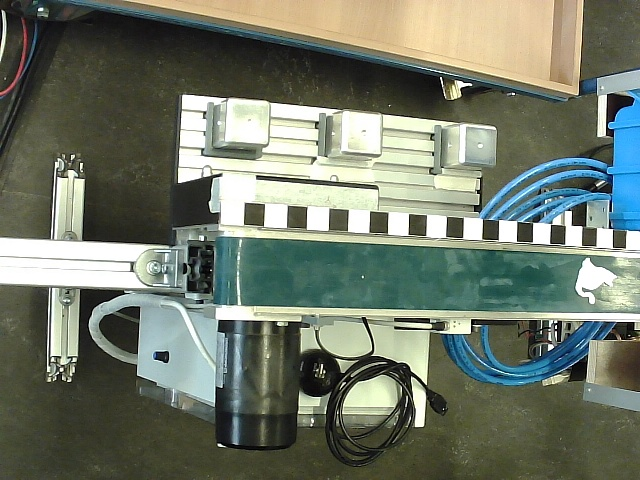cat: (575, 257, 617, 304)
